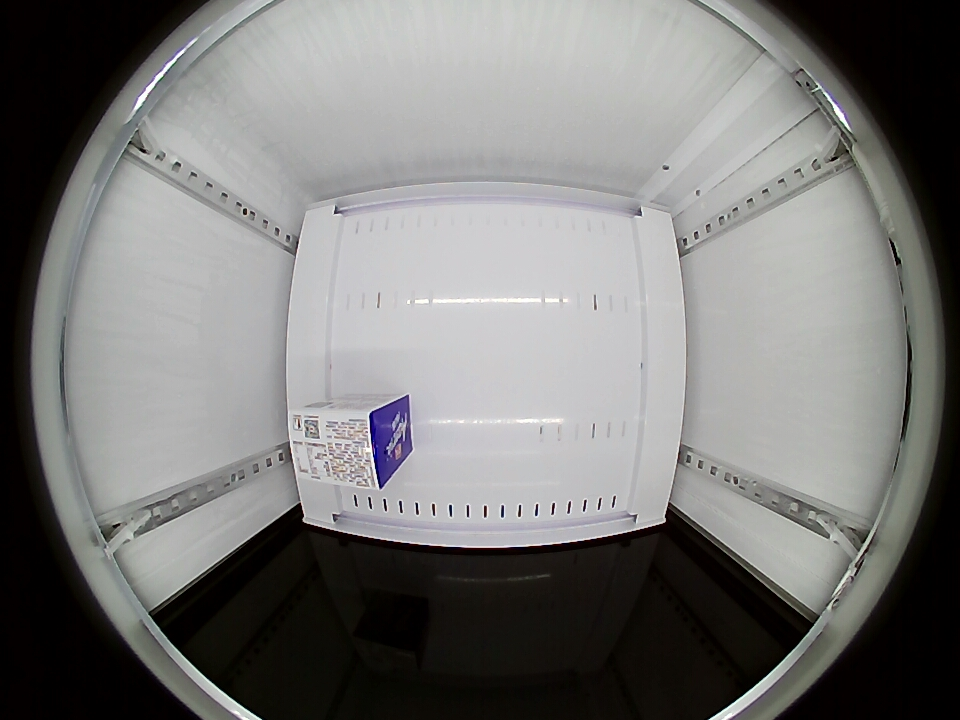meiniye: (286, 399, 398, 491)
